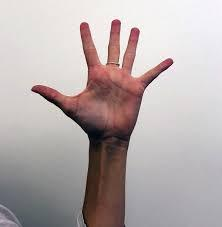Fingers-Spread: (31, 21, 175, 140)
